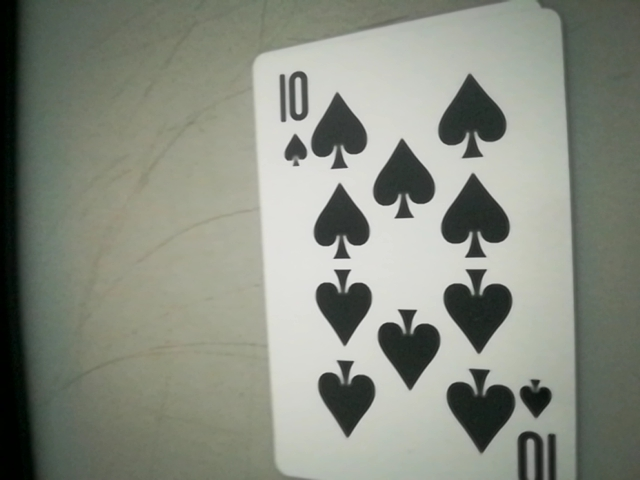ht 10: (263, 63, 330, 171)
